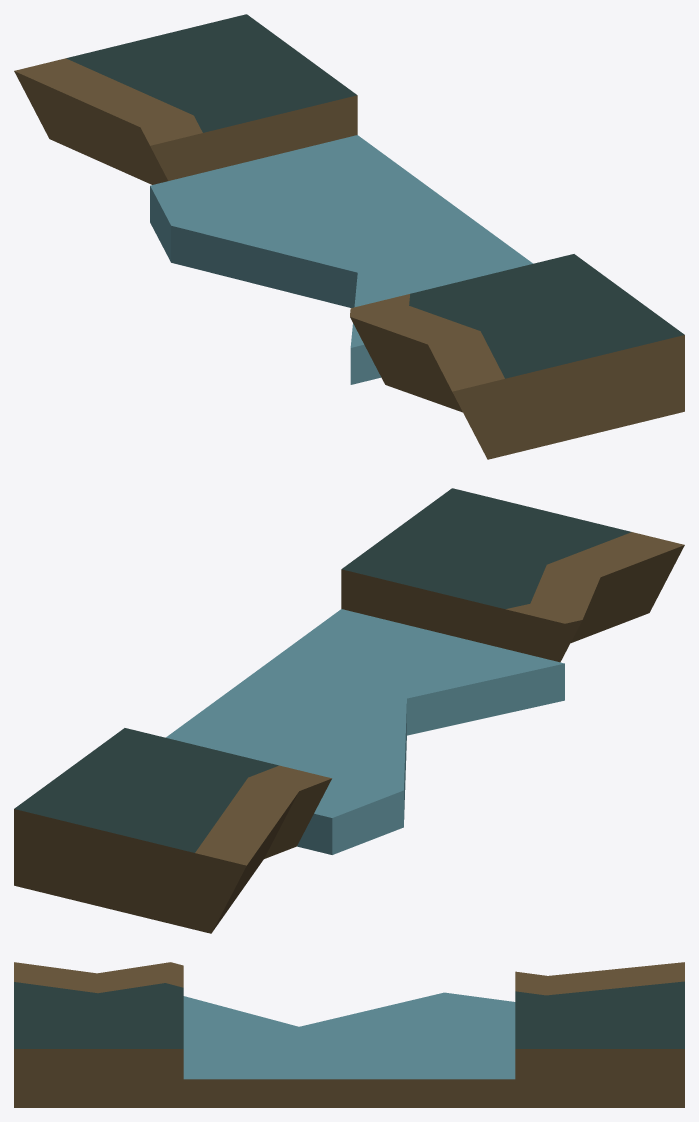
File: Brown_Waterfall_Top_01.obj
The picture shows the model from 3 angles, top to bottom: view 1: azimuth 30°, elevation 25°; view 2: azimuth 150°, elevation 25°; view 3: azimuth 270°, elevation 25°; orthographic projection. The views are drawn at different scales.
Visible parts, largest first — view 1: Mesh1_Brown_Waterfall_Top_Model; view 2: Mesh1_Brown_Waterfall_Top_Model; view 3: Mesh1_Brown_Waterfall_Top_Model.
Boxes of the visible parts, left/top/right/bottom form: Mesh1_Brown_Waterfall_Top_Model: left=14, top=14, right=684, bottom=459; Mesh1_Brown_Waterfall_Top_Model: left=14, top=488, right=684, bottom=933; Mesh1_Brown_Waterfall_Top_Model: left=14, top=962, right=684, bottom=1107.
Size of the model in its own units: 0.92 by 0.29 by 3.
